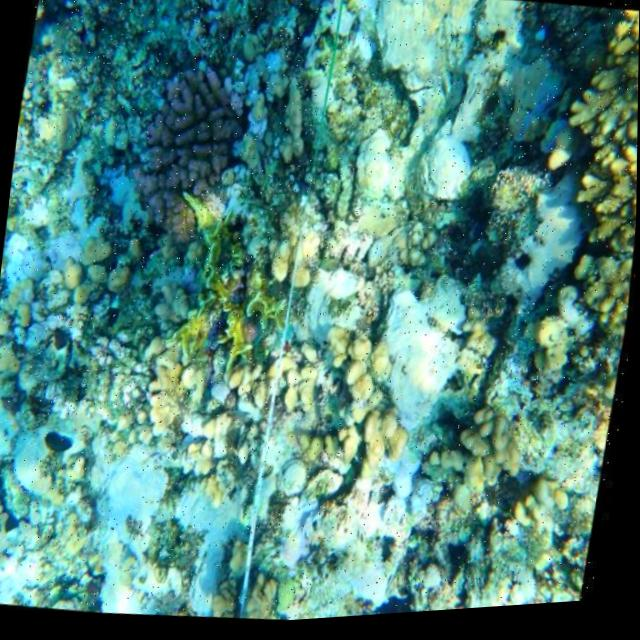Bleached Coral: (64, 416, 282, 633), (0, 178, 124, 385), (333, 80, 488, 239), (362, 270, 484, 451), (321, 431, 449, 560), (62, 133, 178, 275), (495, 181, 595, 326), (0, 491, 67, 610)
